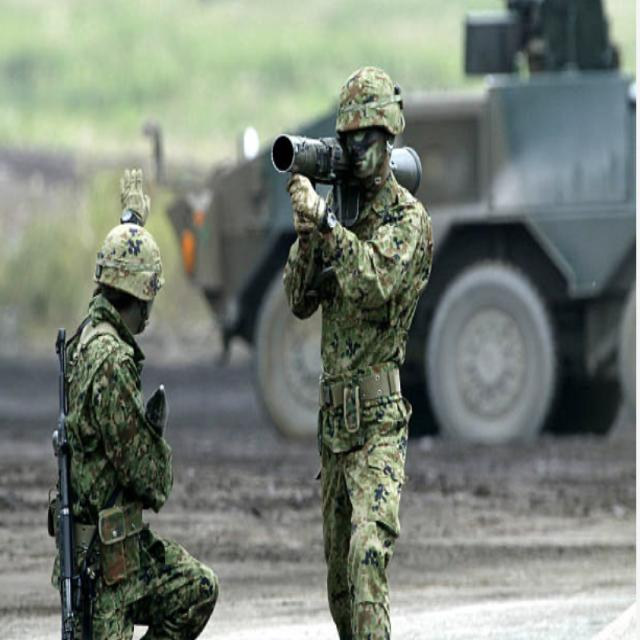bazooka: (273, 123, 442, 216)
